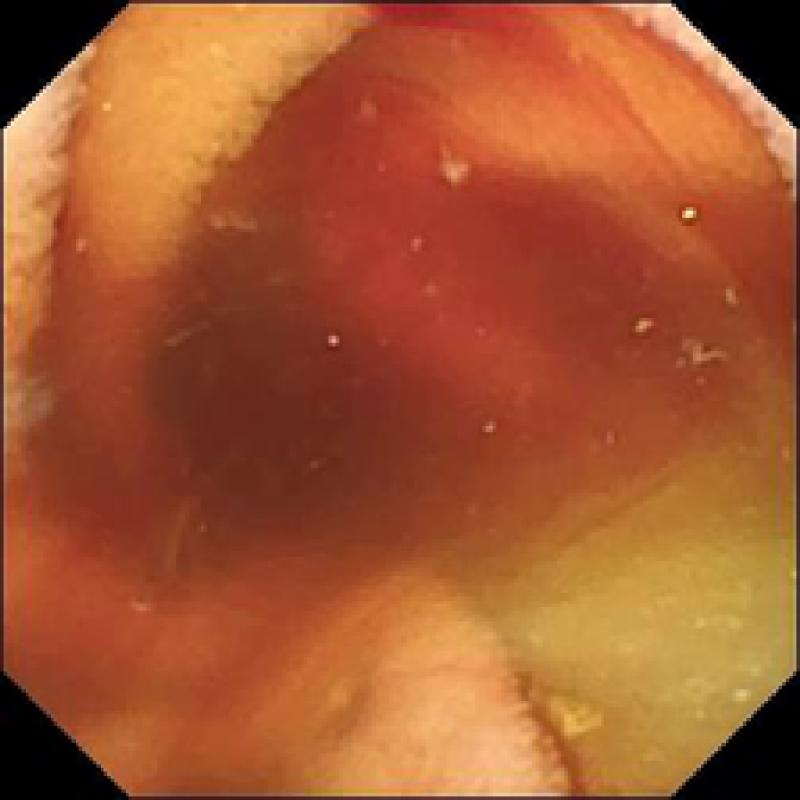bleeding: (0, 0, 800, 583)
